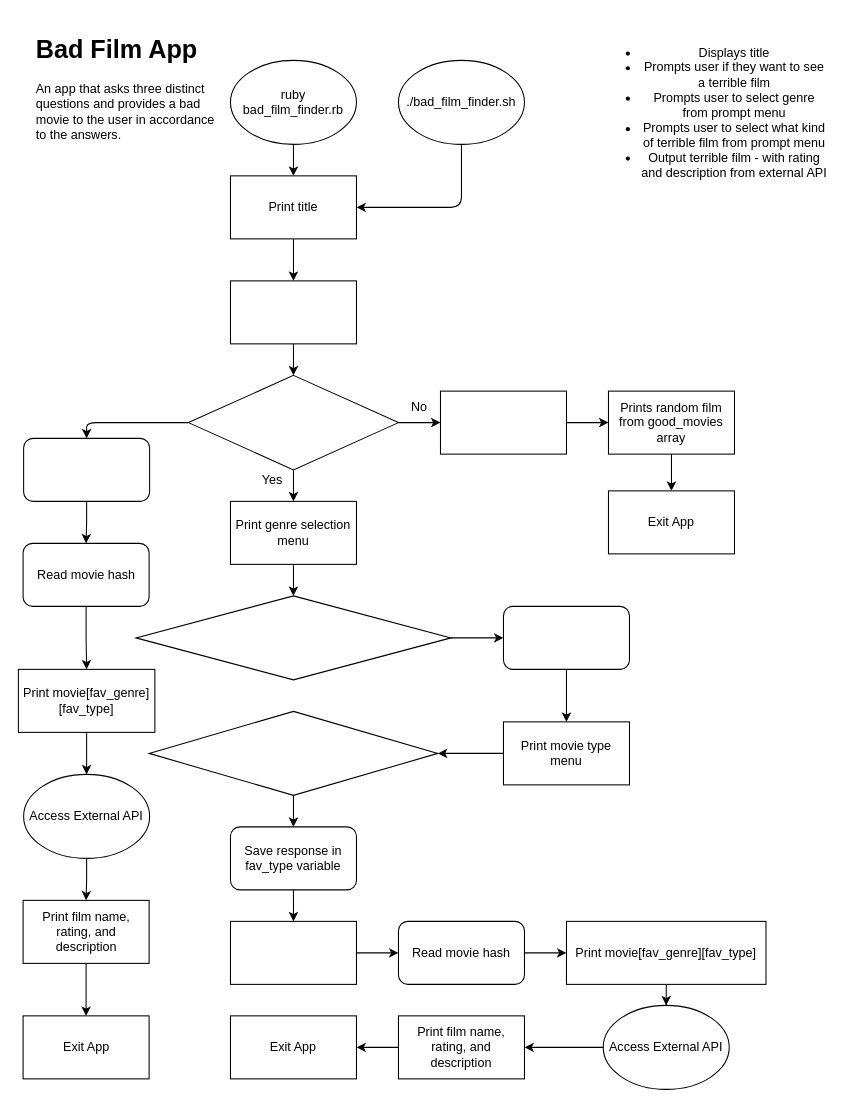
Some shapes in this 847 by 1108 pixel diagram are drawn without their labels. Here are the shapes that lost their labels. From the top down, the centre of each, then its label:
At (292,312): "Ask if user wants to find terrible film".
At (292,422): "Yes / No / Give me a movie now".
At (502,422): "Print apology".
At (86,469): "make fav_genre and fav_type pick random values from movies hash".
At (293,637): "Horror / Comedy / Drama / Action / Adventure".
At (565,637): "Save response in fav_genre variable".
At (293,752): "Laugh / Cringe / Embarrass / Boredom".
At (292,952): "Print fav_genre and fav_type".
